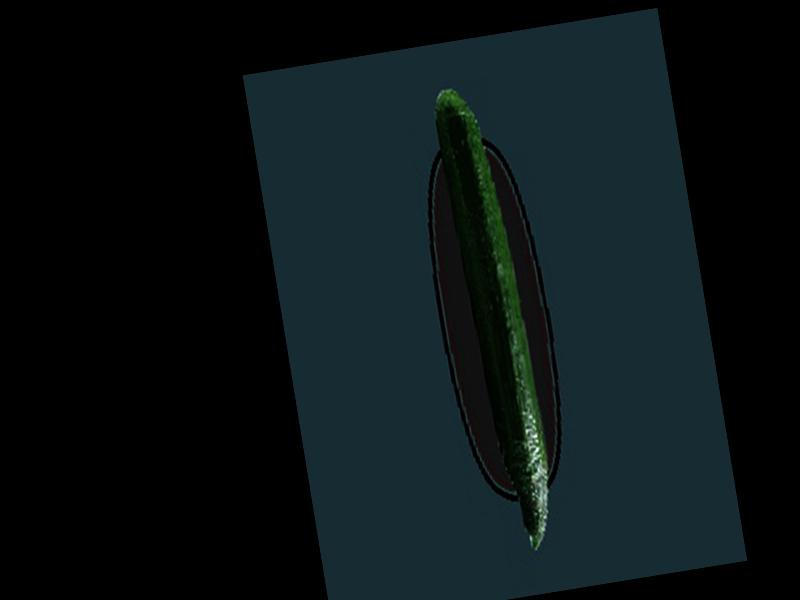Cucumber: (428, 81, 560, 555)
